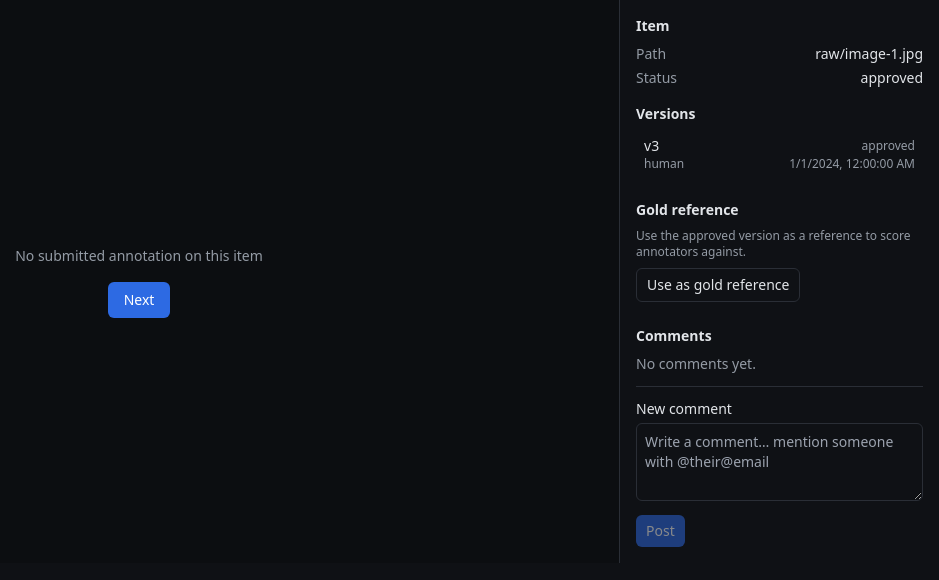
Scenario: ReviewPage › offers an approved item as a gold reference
The image size is (939, 580).
Click the button "Use as gold reference". click: (718, 285)
box: [636,268,800,302]
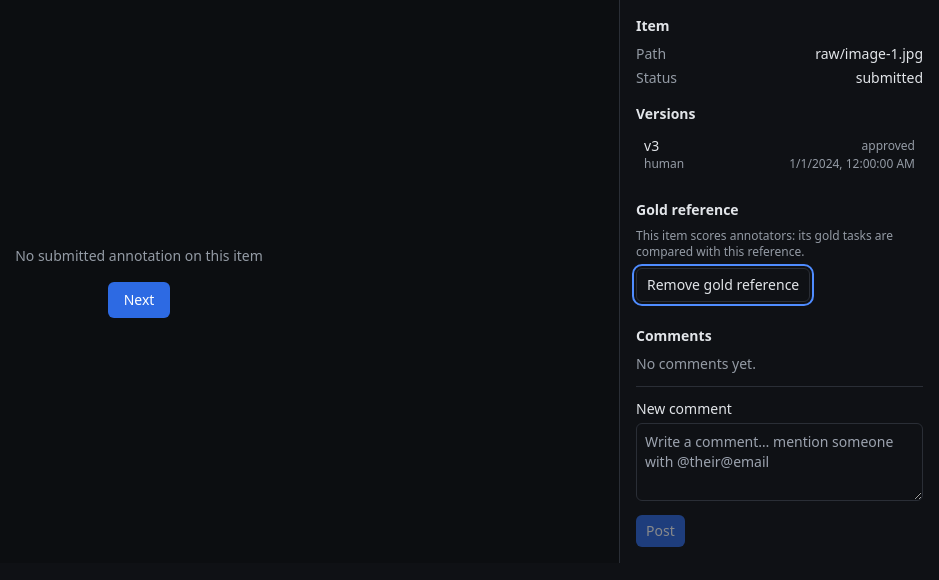
Now the button "Remove gold reference" is shown, box [636,268,810,302]
